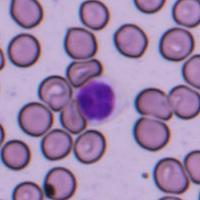L: (74, 75, 125, 125)
